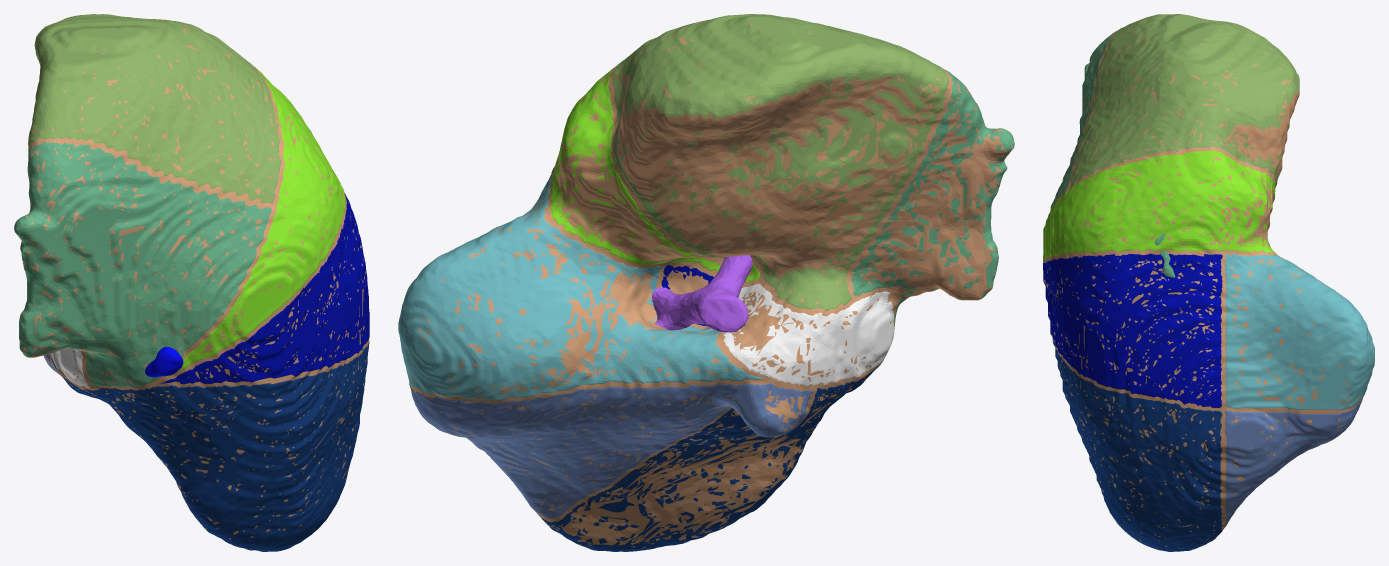
3 renders of one model, left to right at view 1: azimuth 30°, elevation 25°; view 2: azimuth 150°, elevation 25°; view 3: azimuth 270°, elevation 25°, orthographic. The views are drawn at different scales.
Parts seen in each view (by area): view 1: s2, s3, s7, Hígado, s4, s8, s1, Venas Suprahepáticas; view 2: Hígado, s3, s5, s6, s7, s1, s2, s4, Porta; view 3: s3, s8, s5, s7, s4, Hígado, s6, s2.
Part boxes in pixels (x1,y1,x2,y2): s2: (14,142,271,387); s3: (28,14,281,203); s7: (49,342,369,551); Hígado: (14,18,369,548); s4: (166,67,345,377); s8: (160,193,369,384); s1: (51,348,89,388); Venas Suprahepáticas: (145,347,183,377); Hígado: (399,21,1012,550); s3: (612,14,948,310); s5: (398,173,763,400); s6: (409,383,813,518); s7: (538,365,879,551); s1: (723,284,894,386); s2: (851,69,1014,329); s4: (550,69,760,282); Porta: (652,255,752,332); s3: (1070,14,1299,187); s8: (1043,253,1222,407); s5: (1225,253,1374,410); s7: (1050,333,1222,551); s4: (1043,150,1275,261); Hígado: (1043,19,1374,548); s6: (1224,400,1362,526); s2: (1049,31,1116,213).
Bounding box in the file's own units: 0.1647 × 0.2034 × 0.1362.
